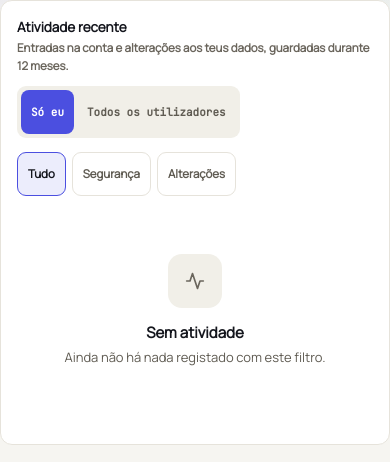
ActivityCard › o admin vê todos e filtra por utilizador
Click the button "Todos os utilizadores": {"x": 156, "y": 112} [77,90,236,134]
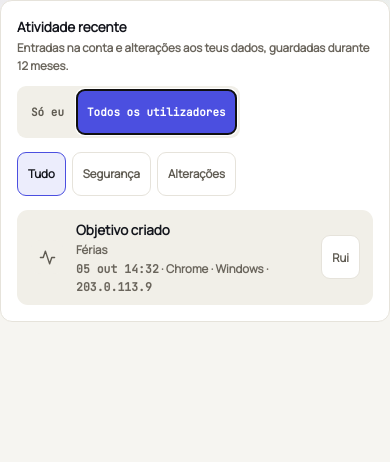
Click the button with aria-label "Ver só a atividade de Rui": {"x": 341, "y": 257} [321,235,360,279]
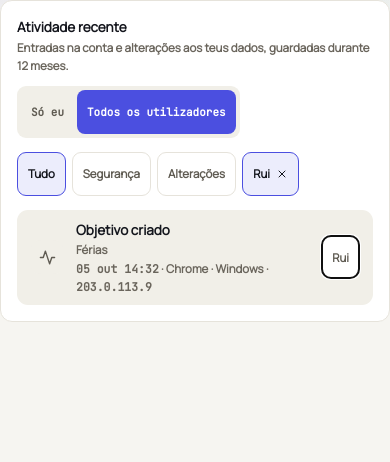
Check: the button with aria-label "Mostrar todos os utilizadores" is shown, box [242,152,299,196]
